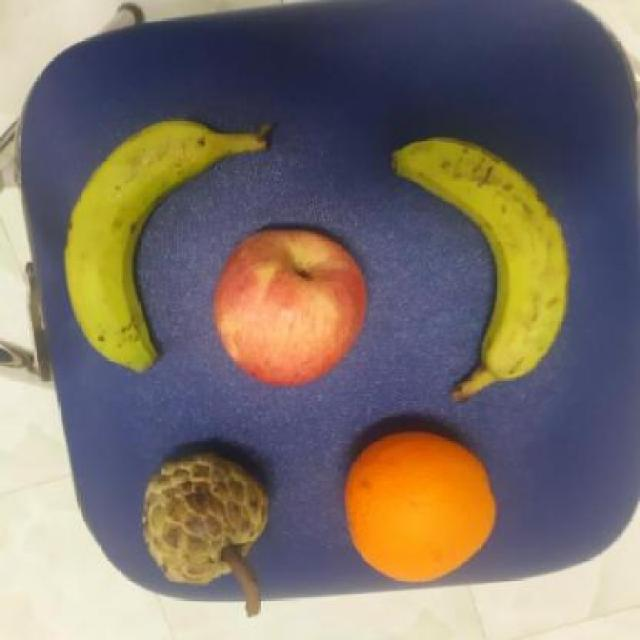apple: (209, 219, 373, 390)
banana: (62, 114, 278, 374), (391, 136, 575, 409)
oren: (343, 431, 500, 584)
sugar apple: (141, 452, 274, 588)
